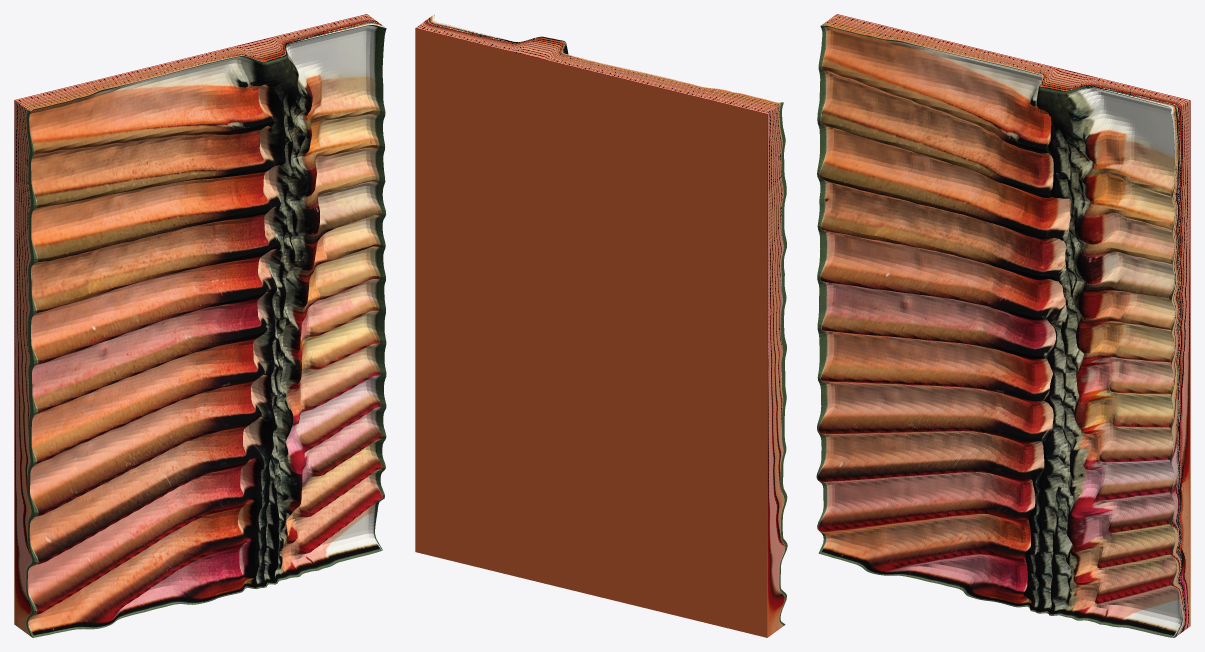
Rendered from obra_013_listones_rojos.glb.
The picture shows the model from 3 angles, left to right: view 1: azimuth 30°, elevation 25°; view 2: azimuth 150°, elevation 25°; view 3: azimuth 330°, elevation 25°; orthographic projection.
Parts seen in each view (by area): view 1: geometry_0; view 2: geometry_0; view 3: geometry_0.
Boxes of the visible parts, x1,y1,x2,y2 form: geometry_0: (14,14,386,637); geometry_0: (415,14,787,637); geometry_0: (816,14,1190,637).
Bounding box in the file's own units: 1.06 × 1.5 × 0.1399.
1 material, 1 textured.
